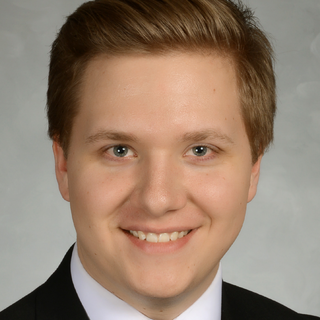eye: (92, 139, 145, 167), (177, 139, 225, 162)
